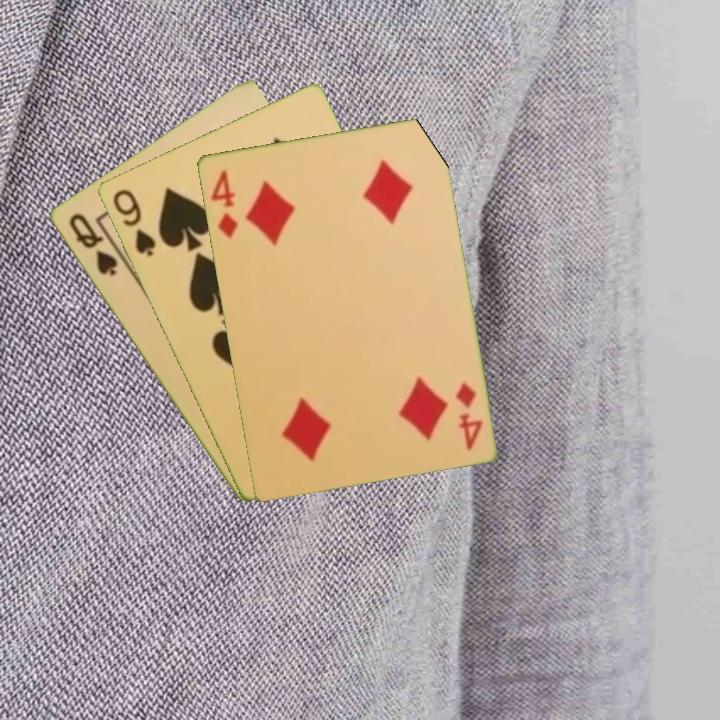4d: (451, 379, 485, 453), (207, 166, 240, 241)
9s: (108, 185, 159, 260)
Qs: (64, 209, 120, 280)
